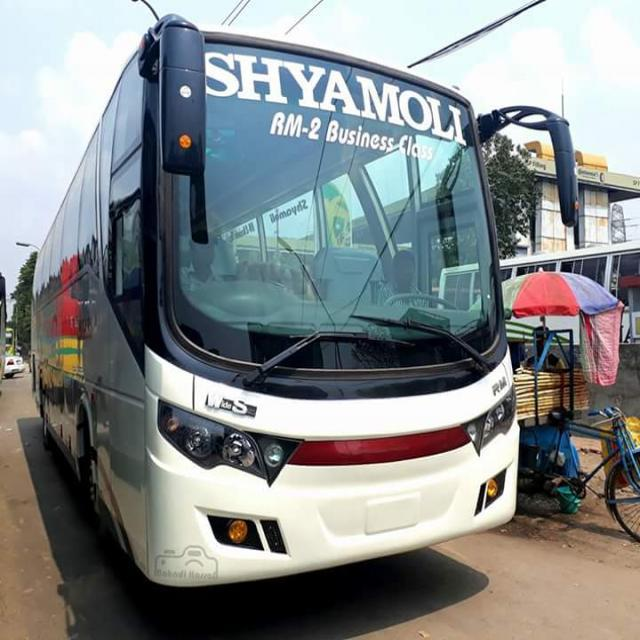Bus: (33, 1, 557, 593)
